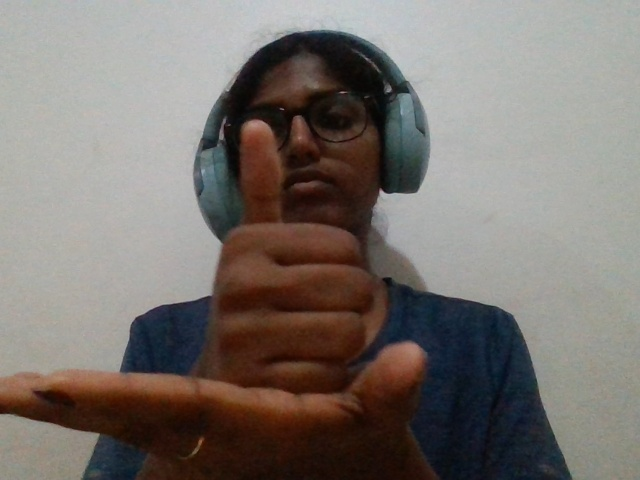Help: (4, 114, 446, 465)
